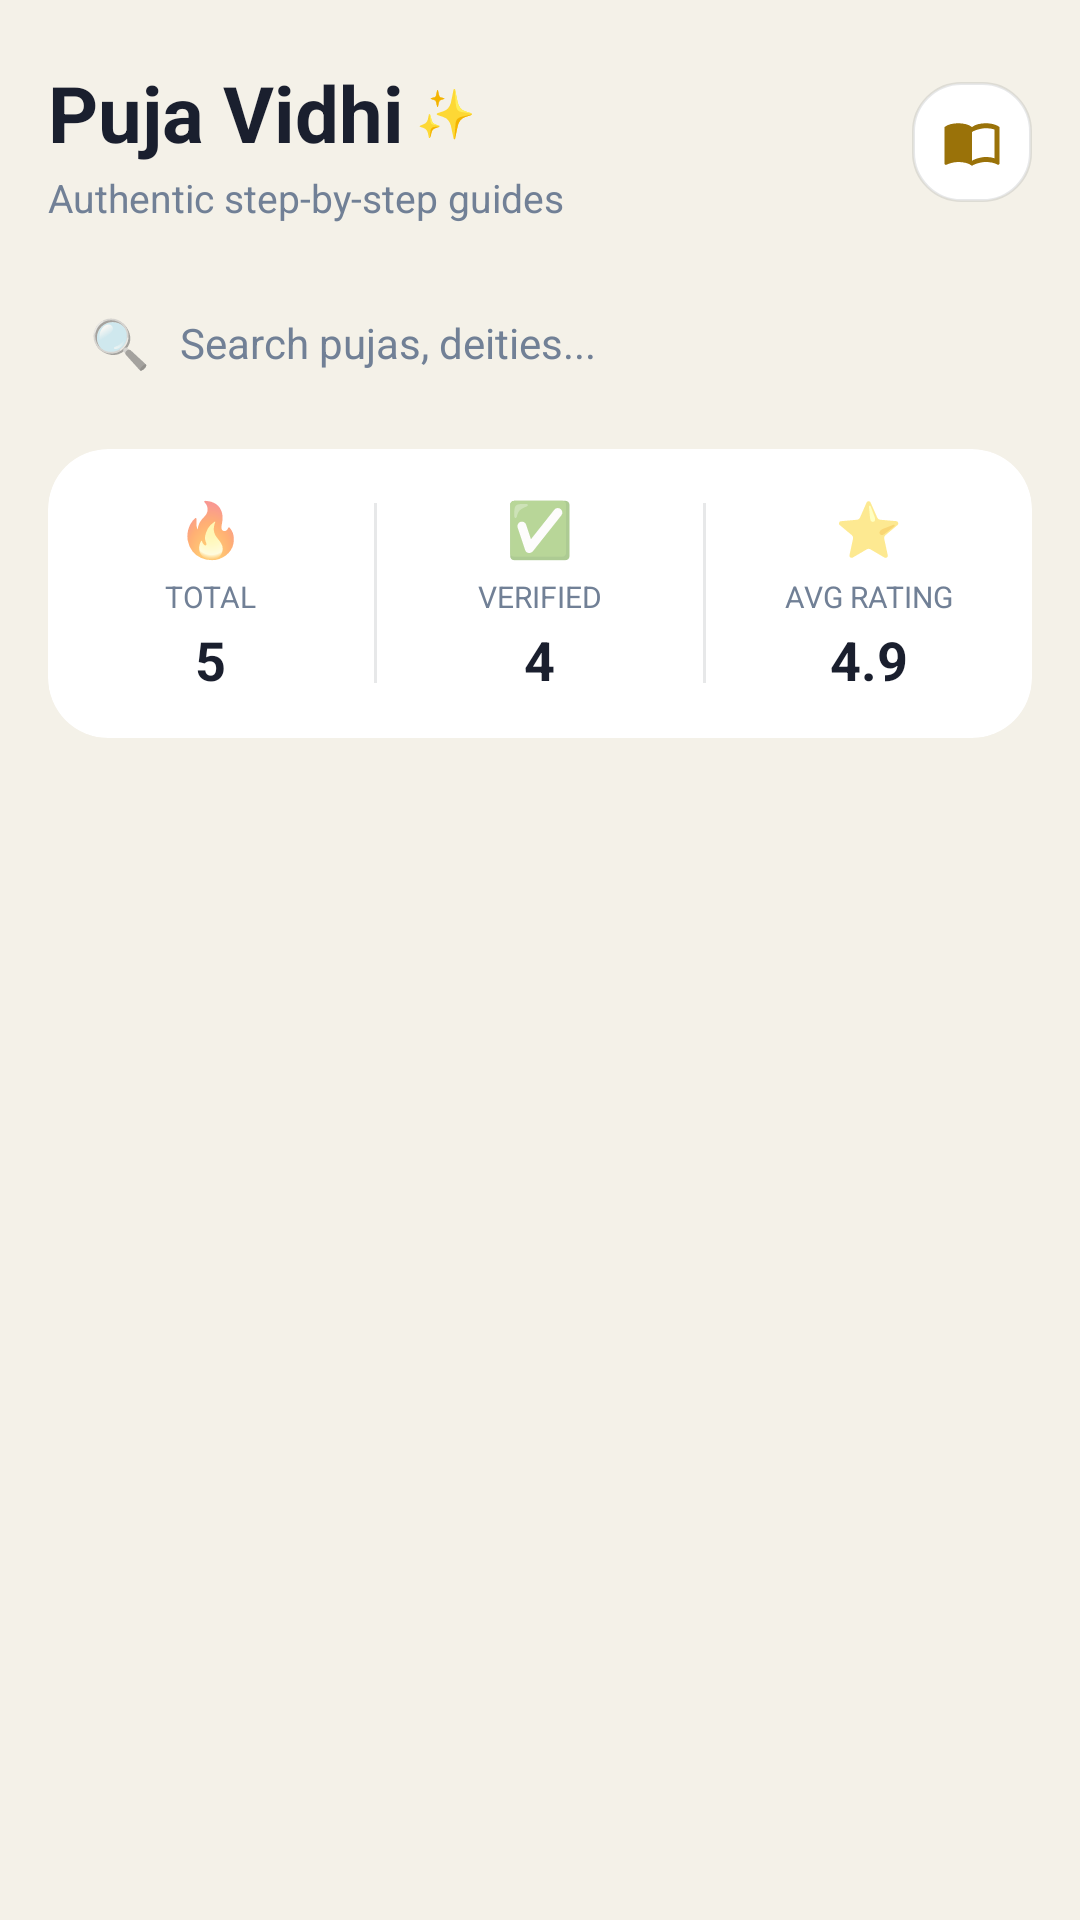

Icon click points for this 1080 x 1920 phone screenshot, format point (x, y):
Library: point (972, 144)
